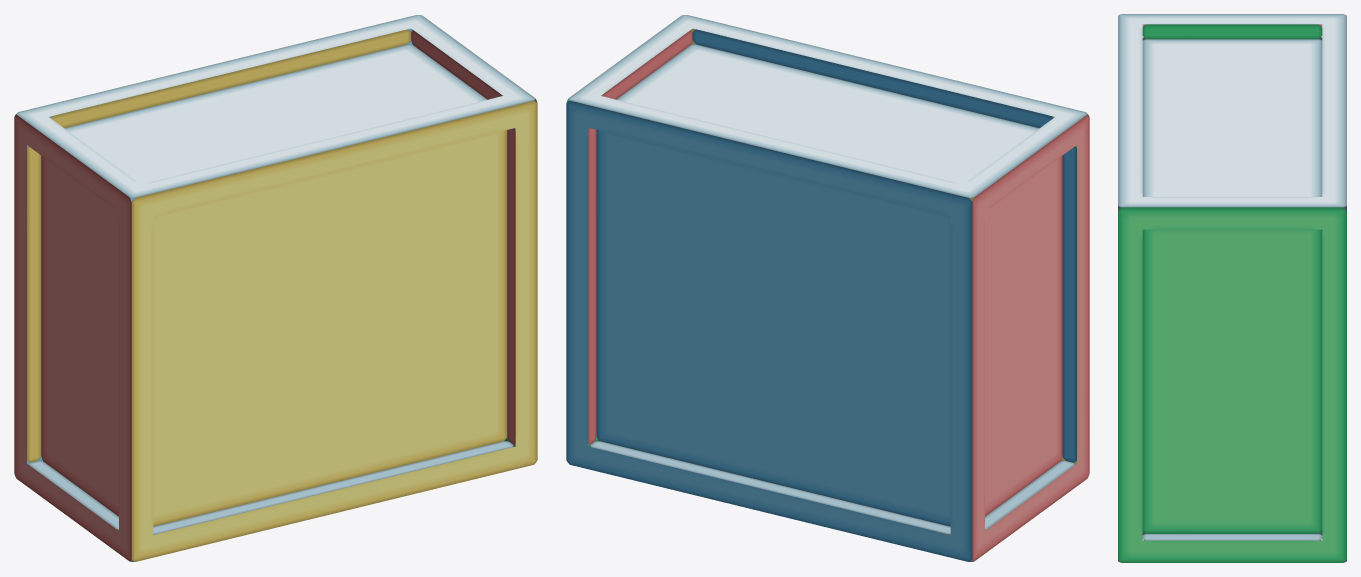
File: crate_b.obj
3 renders of one model, left to right at view 1: azimuth 30°, elevation 25°; view 2: azimuth 150°, elevation 25°; view 3: azimuth 270°, elevation 25°, orthographic. The views are drawn at different scales.
Visible parts, largest first — view 1: cuboid; view 2: cuboid; view 3: cuboid.
Part boxes in pixels (x1=…): cuboid: x1=14, y1=15, x2=537, y2=561; cuboid: x1=566, y1=15, x2=1089, y2=561; cuboid: x1=1118, y1=14, x2=1346, y2=562.
Size of the model in its own units: 1.75 by 1.5 by 0.875.
1 material, 1 textured.
